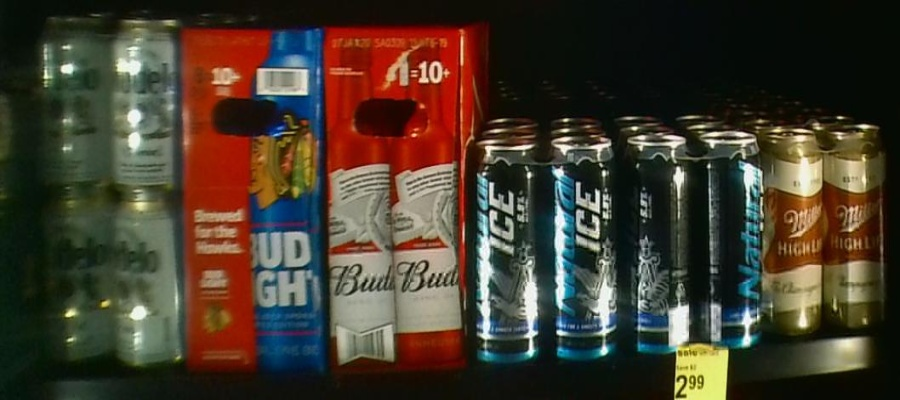bottle: (180, 28, 328, 377), (34, 14, 180, 366), (327, 28, 462, 372), (472, 140, 621, 363), (624, 137, 760, 348), (764, 133, 887, 334)
